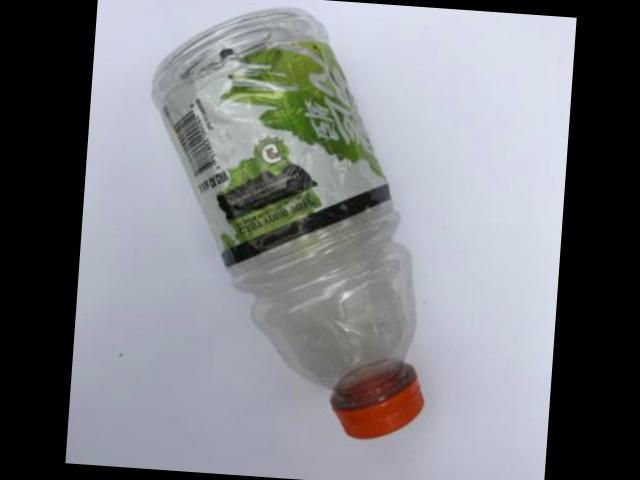plastic: (149, 6, 420, 436)
